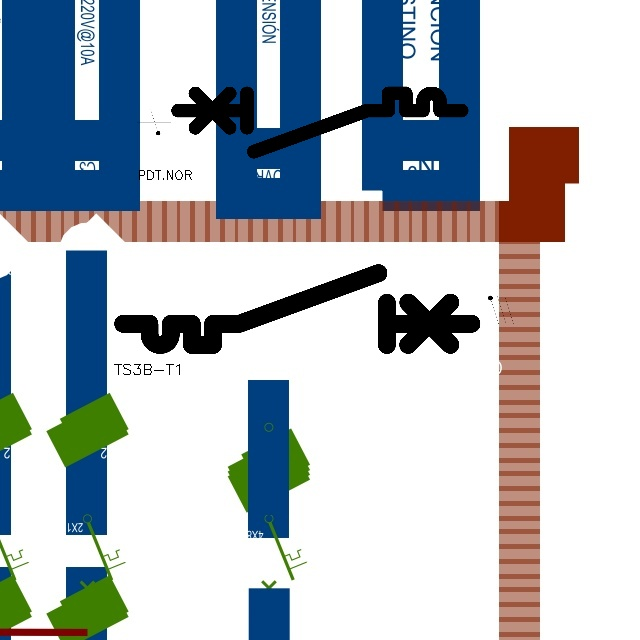interruptor_termomagnetico: (114, 264, 481, 354), (170, 86, 468, 159)
